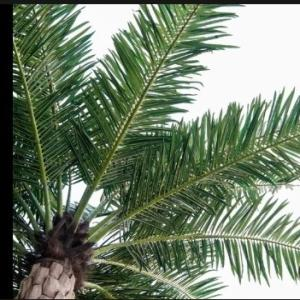palm tree: (11, 3, 299, 299)
